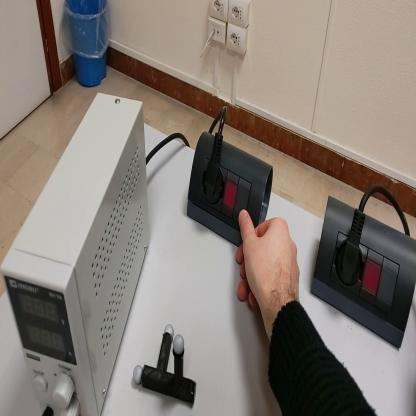hand: (237, 212, 302, 322)
power supply: (2, 87, 149, 414)
socket: (317, 197, 416, 348), (187, 133, 274, 248)
